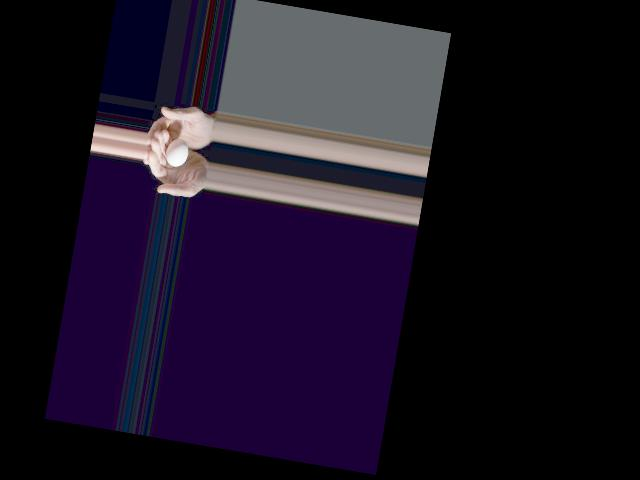egg: (163, 137, 190, 168)
